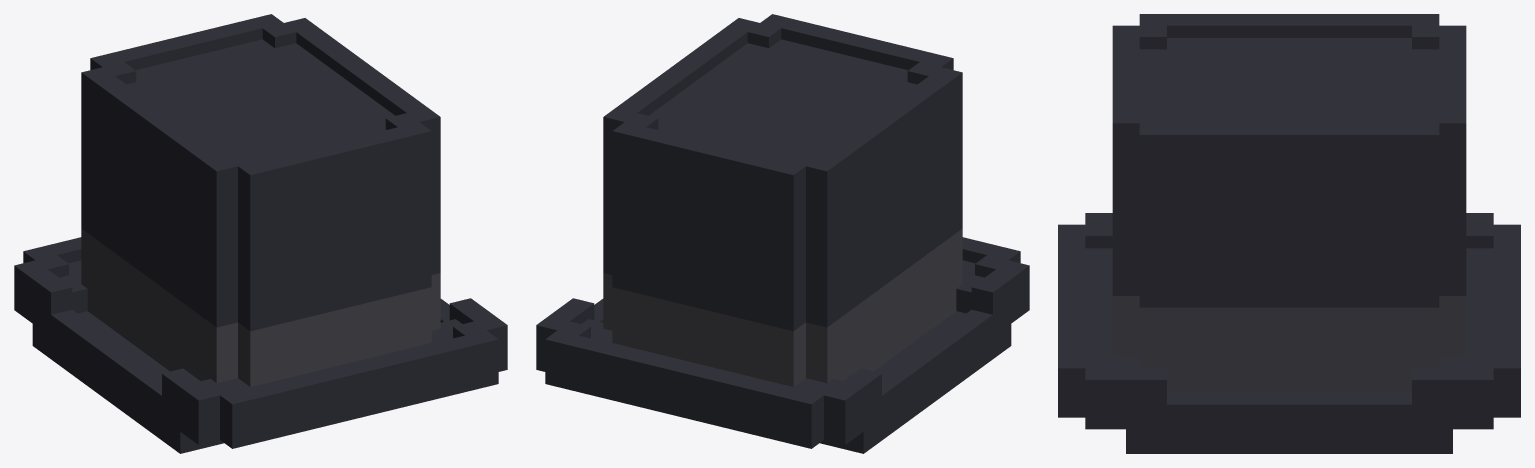
The model's file is av_hat_tophat.glb.
The picture shows the model from 3 angles, left to right: view 1: azimuth 30°, elevation 25°; view 2: azimuth 150°, elevation 25°; view 3: azimuth 270°, elevation 25°; orthographic projection. The views are drawn at different scales.
Visible parts, largest first — view 1: model; view 2: model; view 3: model.
Boxes of the visible parts, x1,y1,x2,y2 form: model: (14,14,507,453); model: (536,14,1029,453); model: (1058,14,1520,453).
Bounding box in the file's own units: 0.2903 × 0.2402 × 0.3403.
Materials: 1 (1 with a texture image).
